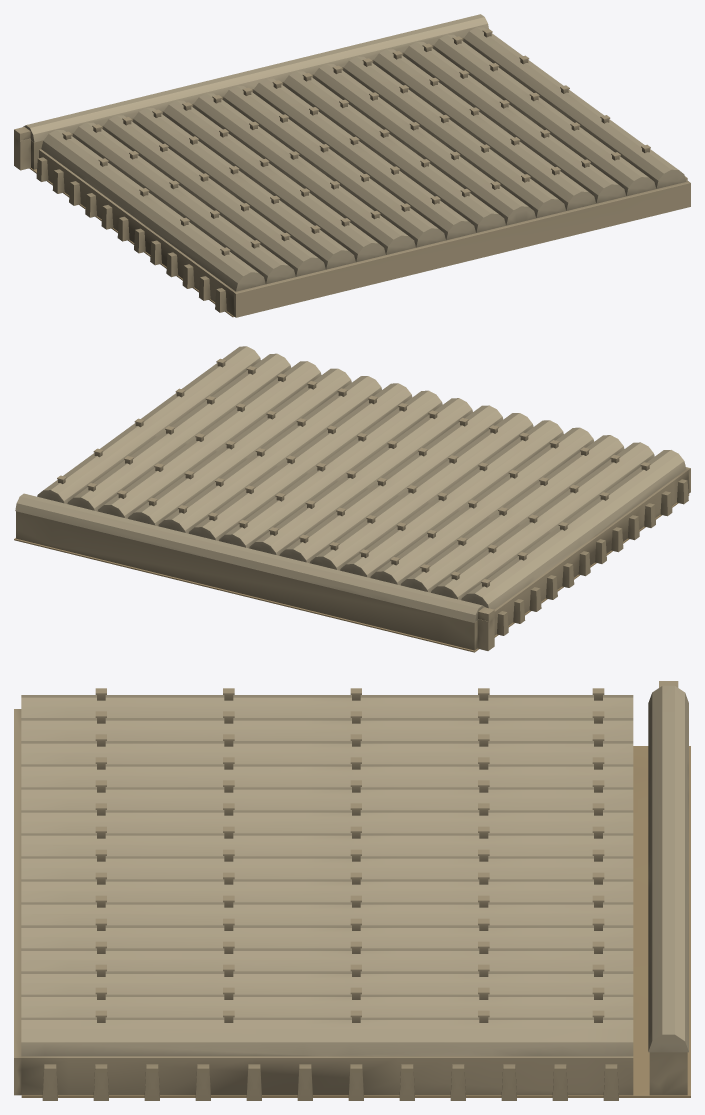
File: la-malga.glb
The picture shows the model from 3 angles, top to bottom: view 1: azimuth 30°, elevation 25°; view 2: azimuth 150°, elevation 25°; view 3: azimuth 270°, elevation 25°; orthographic projection. The views are drawn at different scales.
Parts seen in each view (by area): view 1: p1_vaults, p0_walls, p2_shafts; view 2: p1_vaults, p0_walls, p2_shafts; view 3: p1_vaults, p0_walls, p2_shafts.
Part boxes in pixels (box(x1,y1,x2,y2)): p1_vaults: box(14, 14, 686, 291); p0_walls: box(29, 38, 690, 317); p2_shafts: box(62, 29, 650, 255); p1_vaults: box(15, 346, 686, 650); p0_walls: box(14, 467, 690, 652); p2_shafts: box(57, 358, 650, 587); p1_vaults: box(21, 681, 688, 1056); p0_walls: box(14, 709, 690, 1100); p2_shafts: box(95, 688, 604, 1022).
Size of the model in its own units: 135 by 12.25 by 106.
